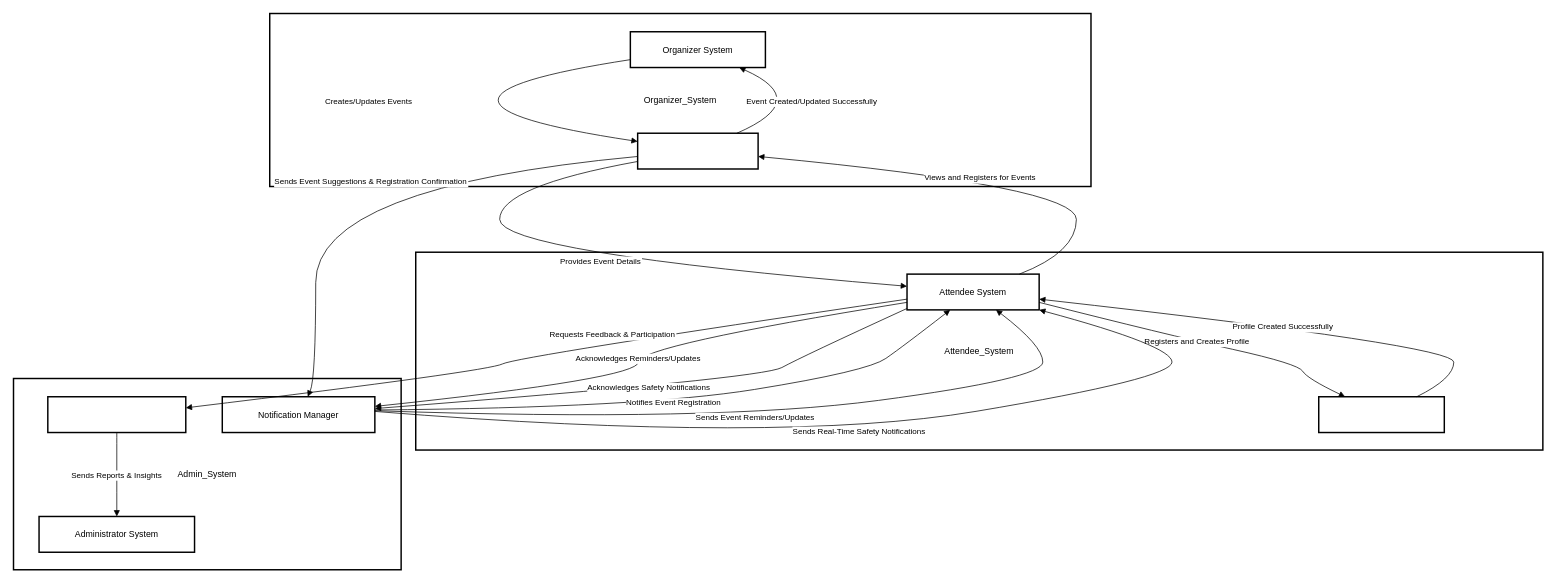
Image size: 1556x583. Some labels were removed from this diagram. Each missing label, with the centre of its shape:
"Analytics Manager" goes at [116,414].
"Event Manager" goes at [697,150].
"Profile Manager" goes at [1381,414].
